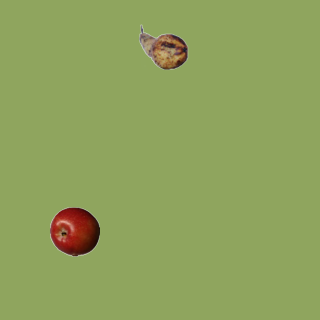Apple Braeburn: (49, 206, 99, 256)
Pear Abate: (138, 22, 188, 72)
